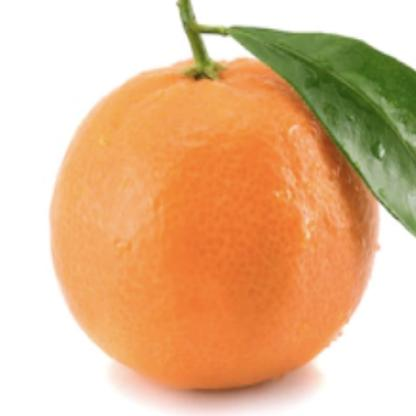fresh: (50, 48, 379, 388)
